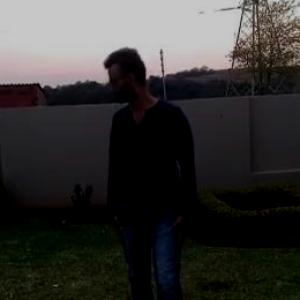follow: (95, 38, 200, 299)
